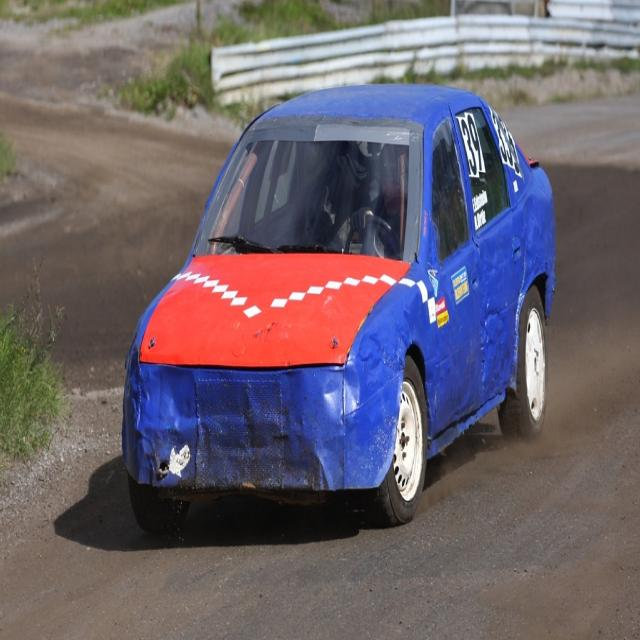car: (123, 76, 559, 536)
